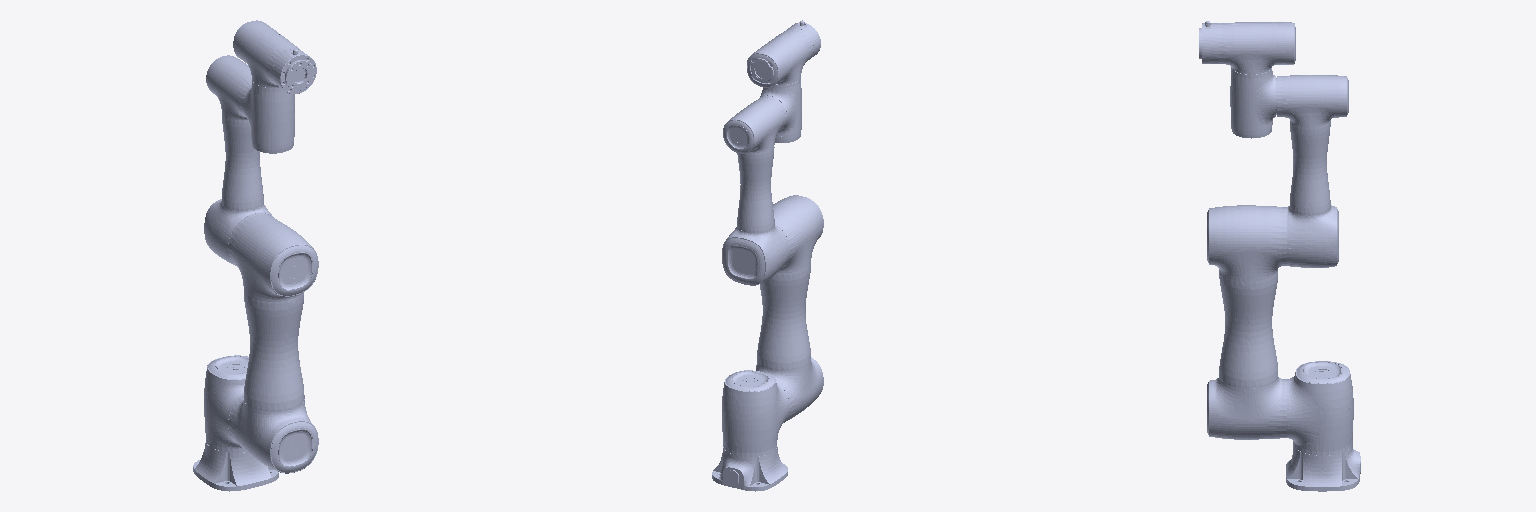
URDF robot description (cr7_robot):
<?xml version="1.0" encoding="utf-8"?>
<!-- This URDF was automatically created by SolidWorks to URDF Exporter! Originally created by [author] ([email redacted]) 
     Commit Version: 1.6.0-1-g15f4949  Build Version: 1.6.7594.29634
     For more information, please see http://wiki.ros.org/sw_urdf_exporter -->
<robot
  name="cr7_robot">
    <link name="dummy_link" />
  <link
    name="base_link">
    <inertial>
      <origin
        xyz="-7.75881826404344E-06 0.00191109737802069 0.0289949710713939"
        rpy="0 0 0" />
      <mass
        value="0.908795453638862" />
      <inertia
        ixx="0.00145446136430631"
        ixy="4.10411509661615E-08"
        ixz="-1.83603068187756E-07"
        iyy="0.00134497445765809"
        iyz="-6.24662501711042E-06"
        izz="0.00215495523232905" />
    </inertial>
    <visual>
      <origin
        xyz="0 0 0"
        rpy="0 0 0" />
      <geometry>
        <mesh
          filename="package://dobot_description/meshes/cr7/base_link0.STL" />
      </geometry>
      <material
        name="">
        <color
          rgba="0.792156862745098 0.819607843137255 0.933333333333333 1" />
      </material>
    </visual>
    <collision>
      <origin
        xyz="0 0 0"
        rpy="0 0 0" />
      <geometry>
        <mesh
          filename="package://dobot_description/meshes/cr7/base_link0.STL" />
      </geometry>
    </collision>
  </link>

  <joint name="dummy_joint" type="fixed">
    <parent link="dummy_link" />
    <child  link="base_link" />
  </joint>

  <link
    name="Link1">
    <inertial>
      <origin
        xyz="2.42083892138974E-07 -0.00325669708857515 -0.00767435596457115"
        rpy="0 0 0" />
      <mass
        value="1.6123155679073" />
      <inertia
        ixx="0.00291211377650885"
        ixy="-7.47419584239082E-09"
        ixz="1.94780650217368E-08"
        iyy="0.00281918869862419"
        iyz="0.000440963272842605"
        izz="0.00328358201221721" />
    </inertial>
    <visual>
      <origin
        xyz="0 0 0"
        rpy="0 0 0" />
      <geometry>
        <mesh
          filename="package://dobot_description/meshes/cr7/J1.STL" />
      </geometry>
      <material
        name="">
        <color
          rgba="0.792156862745098 0.819607843137255 0.933333333333333 1" />
      </material>
    </visual>
    <collision>
      <origin
        xyz="0 0 0"
        rpy="0 0 0" />
      <geometry>
        <mesh
          filename="package://dobot_description/meshes/cr7/J1.STL" />
      </geometry>
    </collision>
  </link>
  <joint
    name="joint1"
    type="revolute">
    <origin
      xyz="0 0 0.147"
      rpy="0 0 0" />
    <parent
      link="base_link" />
    <child
      link="Link1" />
    <axis
      xyz="0 0 -1" />
    <limit
      lower="-6.28"
      upper="6.28"
      effort="0"
      velocity="0" />
  </joint>
  <link
    name="Link2">
    <inertial>
      <origin
        xyz="-0.188500103625708 -7.46110088887752E-07 0.142319304936727"
        rpy="0 0 0" />
      <mass
        value="5.28764336862191" />
      <inertia
        ixx="0.00860086052884714"
        ixy="3.30521626209469E-09"
        ixz="-4.99788929762243E-09"
        iyy="0.0181761454963347"
        iyz="-1.56481985512198E-08"
        izz="0.0189188799857172" />
    </inertial>
    <visual>
      <origin
        xyz="0 0 0"
        rpy="0 0 0" />
      <geometry>
        <mesh
          filename="package://dobot_description/meshes/cr7/J2.STL" />
      </geometry>
      <material
        name="">
        <color
          rgba="0.792156862745098 0.819607843137255 0.933333333333333 1" />
      </material>
    </visual>
    <collision>
      <origin
        xyz="0 0 0"
        rpy="0 0 0" />
      <geometry>
        <mesh
          filename="package://dobot_description/meshes/cr7/J2.STL" />
      </geometry>
    </collision>
  </link>
  <joint
    name="joint2"
    type="revolute">
    <origin
      xyz="0 0 0"
      rpy="-1.57080420997483 1.57079631189374 -3.14158502419526" />
    <parent
      link="Link1" />
    <child
      link="Link2" />
    <axis
      xyz="0 0 1" />
    <limit
      lower="-6.28"
      upper="6.28"
      effort="0"
      velocity="0" />
  </joint>
  <link
    name="Link3">
    <inertial>
      <origin
        xyz="-0.129084033261017 0.000409825982416691 -0.0024891265183234"
        rpy="0 0 0" />
      <mass
        value="2.64536322797469" />
      <inertia
        ixx="0.00313429310657436"
        ixy="8.58567214179718E-06"
        ixz="0.0001236219933347"
        iyy="0.00583755221707048"
        iyz="-3.84538201491329E-07"
        izz="0.00609610718076456" />
    </inertial>
    <visual>
      <origin
        xyz="0 0 0"
        rpy="0 0 0" />
      <geometry>
        <mesh
          filename="package://dobot_description/meshes/cr7/J3.STL" />
      </geometry>
      <material
        name="">
        <color
          rgba="0.792156862745098 0.819607843137255 0.933333333333333 1" />
      </material>
    </visual>
    <collision>
      <origin
        xyz="0 0 0"
        rpy="0 0 0" />
      <geometry>
        <mesh
          filename="package://dobot_description/meshes/cr7/J3.STL" />
      </geometry>
    </collision>
  </link>
  <joint
    name="joint3"
    type="revolute">
    <origin
      xyz="-0.377 0 0.025"
      rpy="0 0 0" />
    <parent
      link="Link2" />
    <child
      link="Link3" />
    <axis
      xyz="0 0 1" />
    <limit
      lower="-2.79"
      upper="2.79"
      effort="0"
      velocity="0" />
  </joint>
  <link
    name="Link4">
    <inertial>
      <origin
        xyz="-0.00098049161725656 -0.00207570116557487 -0.00155508673006152"
        rpy="0 0 0" />
      <mass
        value="0.670573134819647" />
      <inertia
        ixx="0.000669371731621344"
        ixy="-5.32805461934157E-08"
        ixz="3.52586632357936E-07"
        iyy="0.000654228488306913"
        iyz="0.000110801103983602"
        izz="0.000653654751027863" />
    </inertial>
    <visual>
      <origin
        xyz="0 0 0"
        rpy="0 0 0" />
      <geometry>
        <mesh
          filename="package://dobot_description/meshes/cr7/J4.STL" />
      </geometry>
      <material
        name="">
        <color
          rgba="0.792156862745098 0.819607843137255 0.933333333333333 1" />
      </material>
    </visual>
    <collision>
      <origin
        xyz="0 0 0"
        rpy="0 0 0" />
      <geometry>
        <mesh
          filename="package://dobot_description/meshes/cr7/J4.STL" />
      </geometry>
    </collision>
  </link>
  <joint
    name="joint4"
    type="revolute">
    <origin
      xyz="-0.306999999999969 0 0.116"
      rpy="0 0 -1.57079677671549" />
    <parent
      link="Link3" />
    <child
      link="Link4" />
    <axis
      xyz="0 0 0.999999999969965" />
    <limit
      lower="-6.28"
      upper="6.28"
      effort="0"
      velocity="0" />
  </joint>
  <link
    name="Link5">
    <inertial>
      <origin
        xyz="-0.00139233872001005 -0.00449255371185306 -0.00130478579616922"
        rpy="0 0 0" />
      <mass
        value="0.725828190120638" />
      <inertia
        ixx="0.00073002940905788"
        ixy="1.46530702319641E-07"
        ixz="-1.21461719923983E-07"
        iyy="0.000710023403641111"
        iyz="-0.000119103387993809"
        izz="0.000712169450212708" />
    </inertial>
    <visual>
      <origin
        xyz="0 0 0"
        rpy="0 0 0" />
      <geometry>
        <mesh
          filename="package://dobot_description/meshes/cr7/J5.STL" />
      </geometry>
      <material
        name="">
        <color
          rgba="0.792156862745098 0.819607843137255 0.933333333333333 1" />
      </material>
    </visual>
    <collision>
      <origin
        xyz="0 0 0"
        rpy="0 0 0" />
      <geometry>
        <mesh
          filename="package://dobot_description/meshes/cr7/J5.STL" />
      </geometry>
    </collision>
  </link>
  <joint
    name="joint5"
    type="revolute">
    <origin
      xyz="0 -0.116 0"
      rpy="1.5707963267949 0 0" />
    <parent
      link="Link4" />
    <child
      link="Link5" />
    <axis
      xyz="0 0 -1" />
    <limit
      lower="-6.28"
      upper="6.28"
      effort="0"
      velocity="0" />
  </joint>
  <link
    name="Link6">
    <inertial>
      <origin
        xyz="-0.00134099075400824 9.61028193323665E-05 -0.0192856508049091"
        rpy="0 0 0" />
      <mass
        value="0.157885328078873" />
      <inertia
        ixx="7.80450650011017E-05"
        ixy="3.56327806101489E-09"
        ixz="-3.98217377472077E-11"
        iyy="7.91678595101433E-05"
        iyz="-1.3821786505554E-07"
        izz="0.000129505866960959" />
    </inertial>
    <visual>
      <origin
        xyz="0 0 0"
        rpy="0 0 0" />
      <geometry>
        <mesh
          filename="package://dobot_description/meshes/cr7/J6.STL" />
      </geometry>
      <material
        name="">
        <color
          rgba="0.792156862745098 0.819607843137255 0.933333333333333 1" />
      </material>
    </visual>
    <collision>
      <origin
        xyz="0 0 0"
        rpy="0 0 0" />
      <geometry>
        <mesh
          filename="package://dobot_description/meshes/cr7/J6.STL" />
      </geometry>
    </collision>
  </link>
  <joint
    name="joint6"
    type="revolute">
    <origin
      xyz="0 0.104999656773681 0"
      rpy="-1.5707963267949 0 0" />
    <parent
      link="Link5" />
    <child
      link="Link6" />
    <axis
      xyz="0 0 -1" />
    <limit
      lower="-6.28"
      upper="6.28"
      effort="0"
      velocity="0" />
  </joint>
</robot>

--- Facts derived from the render (not from the file) ---
3 views of the same robot in one strip: view 1: azimuth 30°, elevation 25°; view 2: azimuth 150°, elevation 25°; view 3: azimuth 270°, elevation 25° (orthographic).
Model cr7_robot with 8 links and 7 joints (6 revolute, 1 fixed), rooted at dummy_link, posed all joints at 0.
Visible links, largest first — view 1: Link2, Link3, Link1, Link4, base_link, Link5, Link6; view 2: Link2, Link3, Link1, Link5, base_link, Link4; view 3: Link2, Link3, Link1, Link5, Link4, base_link, Link6.
Link boxes in pixels (<box>): Link2: <box>228,213,318,473</box>; Link3: <box>204,55,272,265</box>; Link1: <box>204,355,248,452</box>; Link4: <box>242,81,294,153</box>; base_link: <box>193,443,278,491</box>; Link5: <box>233,20,299,87</box>; Link6: <box>272,49,316,93</box>; Link2: <box>756,195,823,422</box>; Link3: <box>722,96,789,285</box>; Link1: <box>722,370,789,456</box>; Link5: <box>747,28,813,87</box>; base_link: <box>712,447,787,491</box>; Link4: <box>760,79,801,142</box>; Link2: <box>1207,205,1286,439</box>; Link3: <box>1276,75,1348,267</box>; Link1: <box>1287,361,1353,455</box>; Link5: <box>1218,22,1295,74</box>; Link4: <box>1230,68,1275,138</box>; base_link: <box>1286,443,1360,491</box>; Link6: <box>1199,21,1217,63</box>.
Size in the robot's own frame: 0.148 by 0.3221 by 0.9965 metres.
7 mesh visuals loaded from 7 distinct referenced files (7 binary STL).
